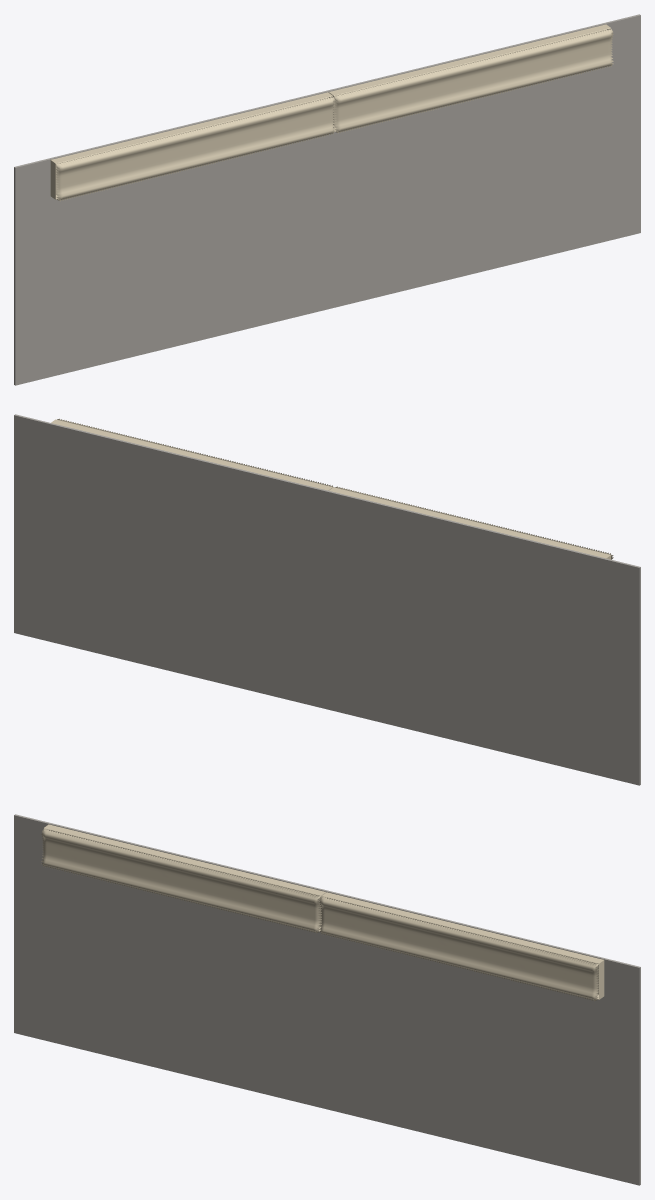
Rendered from terilgan.glb.
The picture shows the model from 3 angles, top to bottom: view 1: azimuth 30°, elevation 25°; view 2: azimuth 150°, elevation 25°; view 3: azimuth 330°, elevation 25°; orthographic projection.
Visible parts, largest first — view 1: Devor, t0, t1; view 2: Devor, t0, t1; view 3: Devor, t1, t0.
Part boxes in pixels (x1,y1,x2,y2): Devor: (14, 14, 640, 385); t0: (50, 92, 335, 201); t1: (328, 24, 613, 133); Devor: (14, 414, 640, 785); t0: (329, 486, 613, 559); t1: (51, 418, 333, 490); Devor: (14, 814, 640, 1185); t1: (319, 892, 604, 1001); t0: (41, 824, 326, 933).
Bounding box in the file's own units: 2.71 × 0.9 × 0.0719.
